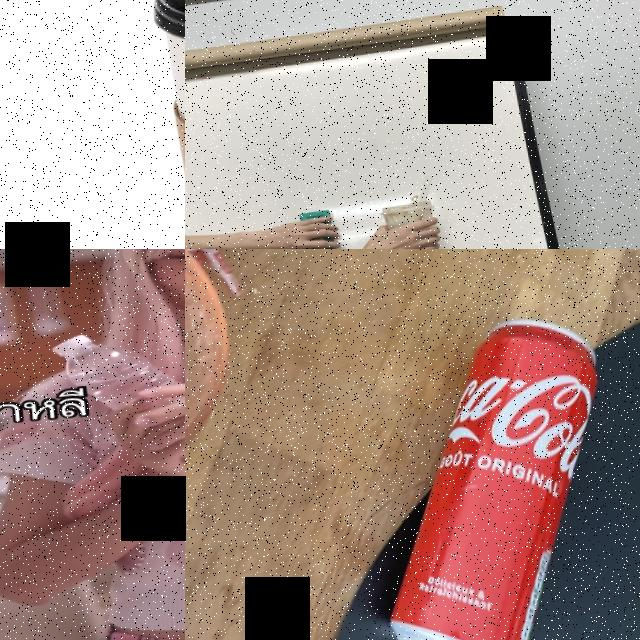bottle: (51, 320, 185, 485)
can: (359, 312, 627, 640)
cup: (146, 0, 185, 249), (379, 199, 442, 249)
